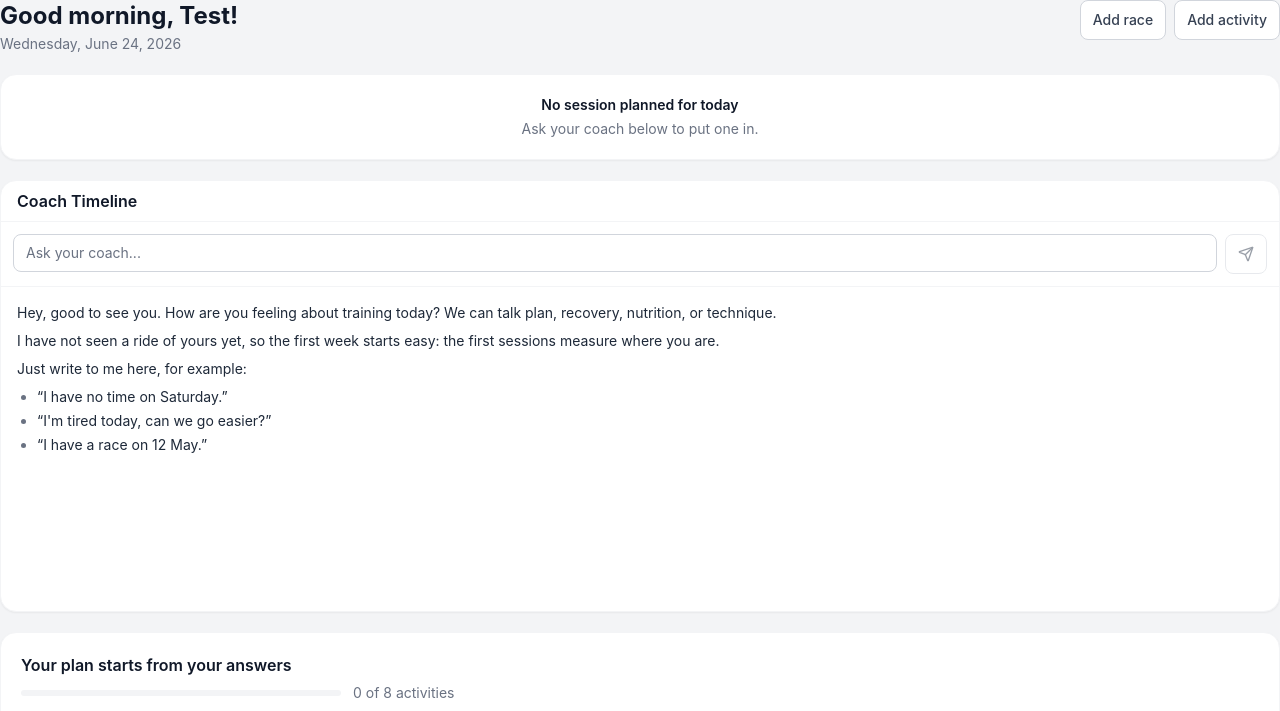
Test: DashboardPage — entered activities › offers "Add activity" even without a plan
Click the button "Add activity".
click(1227, 20)  # box [1174,0,1279,40]
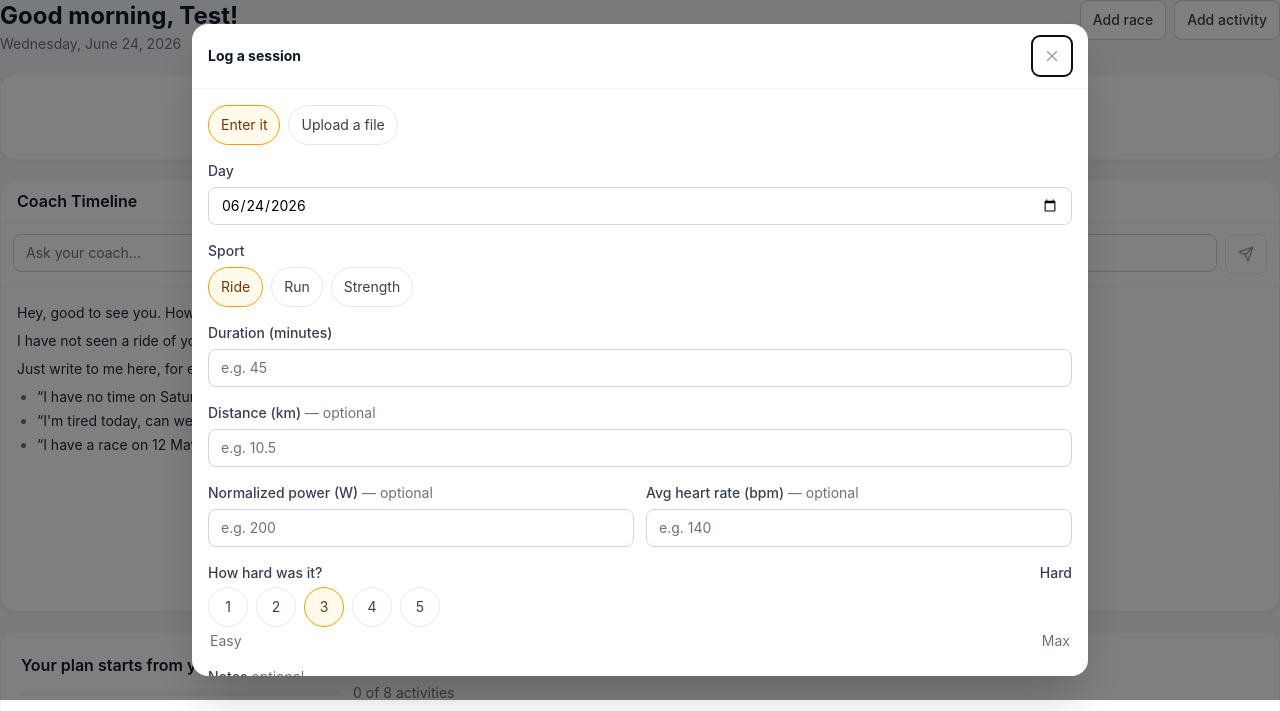
Expected: the heading "Log a session" is shown, [208,46,301,66]
